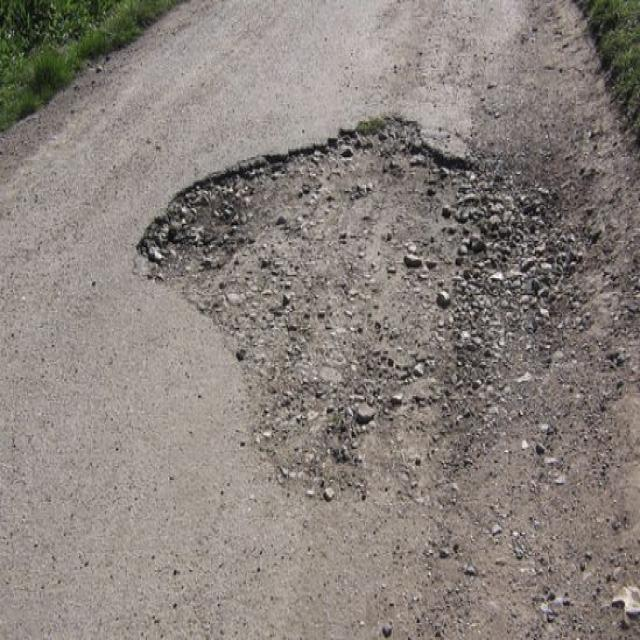Pothole: (128, 108, 575, 506)
